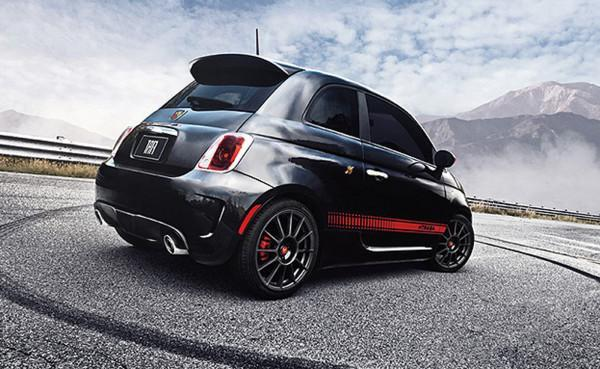Car: (40, 36, 497, 310)
